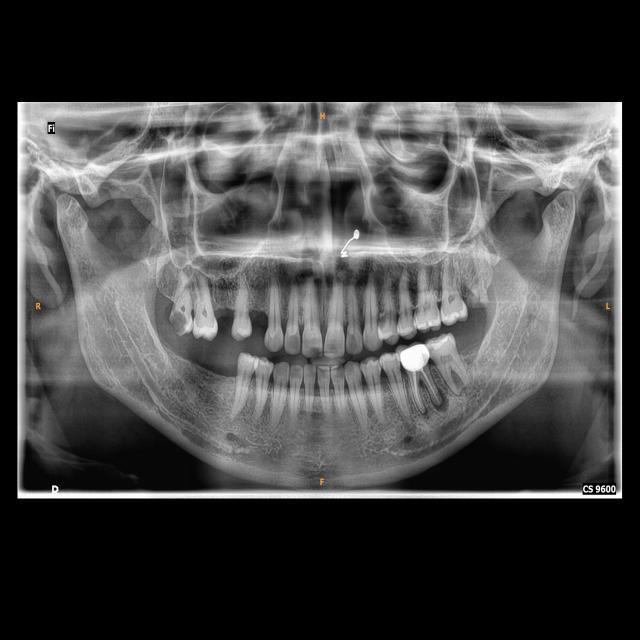dentin-curugu: (167, 308, 191, 337), (378, 305, 402, 330), (308, 343, 326, 365)
kanal-tedavisi: (407, 369, 445, 415)
kaplama: (396, 340, 433, 372)
